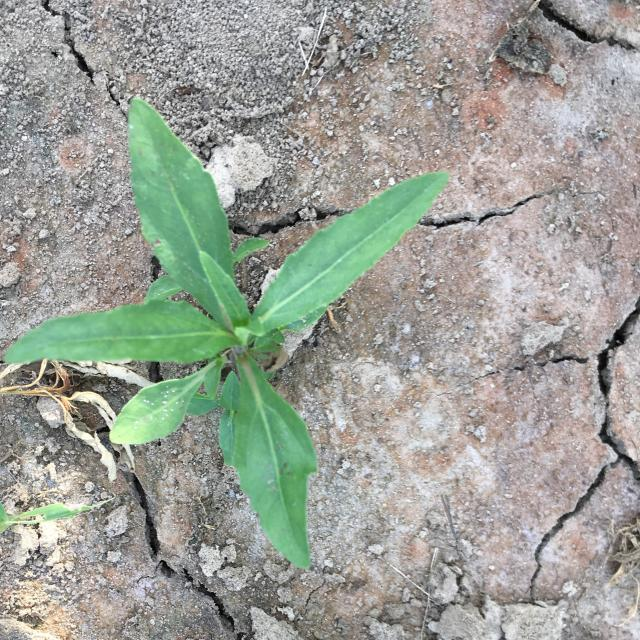Eclipta: (4, 98, 448, 570)
